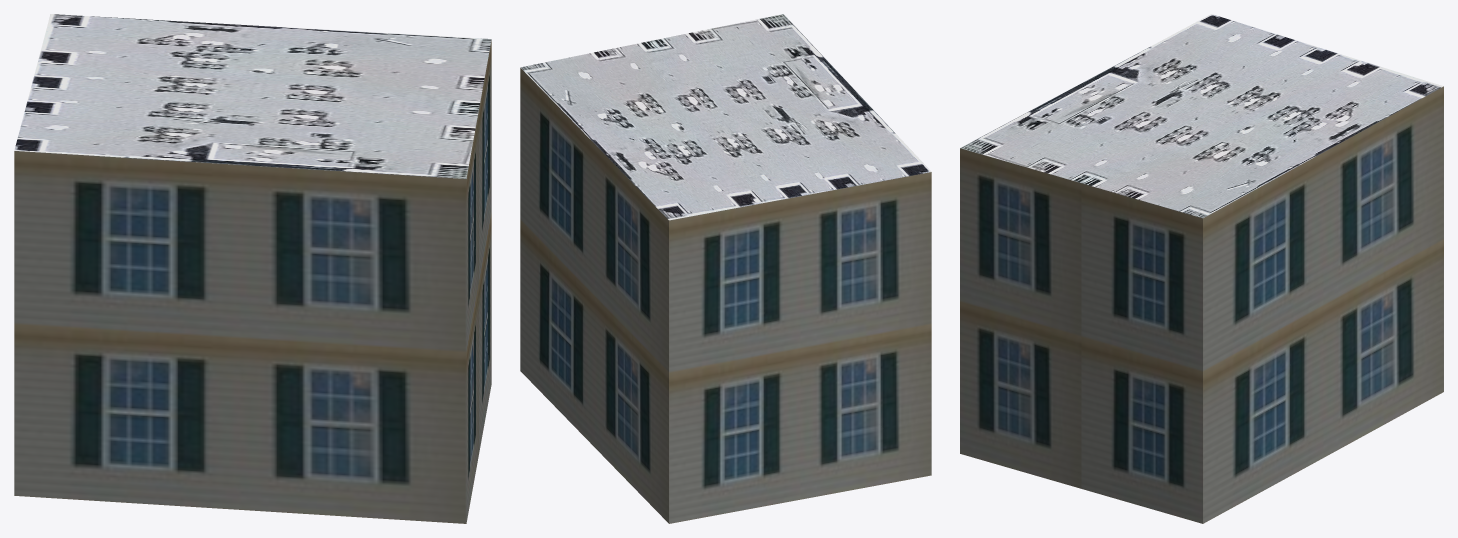
The model's file is ResTex__1104.fbx.
The picture shows the model from 3 angles, left to right: view 1: azimuth 30°, elevation 25°; view 2: azimuth 150°, elevation 25°; view 3: azimuth 270°, elevation 25°; orthographic projection. The views are drawn at different scales.
Parts seen in each view (by area): view 1: CityEngineMaterial_7_m, CityEngineMaterial_15_m; view 2: CityEngineMaterial_7_m, CityEngineMaterial_15_m; view 3: CityEngineMaterial_7_m, CityEngineMaterial_15_m.
Part boxes in pixels (box(x1,y1,x2,y2)): CityEngineMaterial_7_m: box(14, 40, 491, 523); CityEngineMaterial_15_m: box(14, 14, 491, 178); CityEngineMaterial_7_m: box(520, 68, 931, 523); CityEngineMaterial_15_m: box(520, 14, 931, 220); CityEngineMaterial_7_m: box(960, 86, 1443, 523); CityEngineMaterial_15_m: box(960, 14, 1443, 218).
Bounding box in the file's own units: 8.6 × 6 × 8.61.
Materials: 2 (2 with a texture image).
